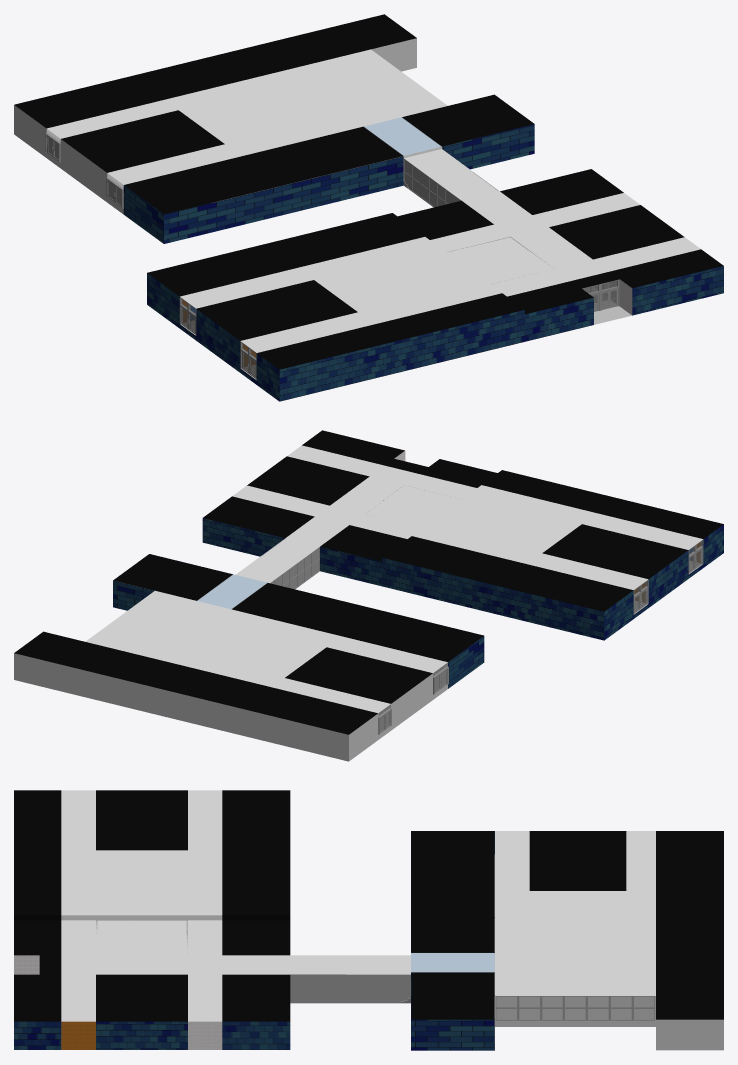
Rendered from school_modify_addedd1.gltf.
3 renders of one model, top to bottom at view 1: azimuth 30°, elevation 25°; view 2: azimuth 150°, elevation 25°; view 3: azimuth 270°, elevation 25°, orthographic. The views are drawn at different scales.
Visible parts, largest first — view 1: school, school2, school.middle; view 2: school, school2, school.middle; view 3: school, school2, school.middle.
Boxes of the visible parts, x1,y1,x2,y2 form: school: (147, 147, 723, 401); school2: (14, 14, 447, 214); school.middle: (123, 94, 534, 243); school: (202, 430, 723, 640); school2: (14, 591, 448, 761); school.middle: (113, 554, 484, 688); school: (14, 790, 410, 1049); school2: (495, 831, 723, 1050); school.middle: (411, 831, 494, 1050).
Bounding box in the file's own units: 11.51 × 0.7889 × 15.22.
